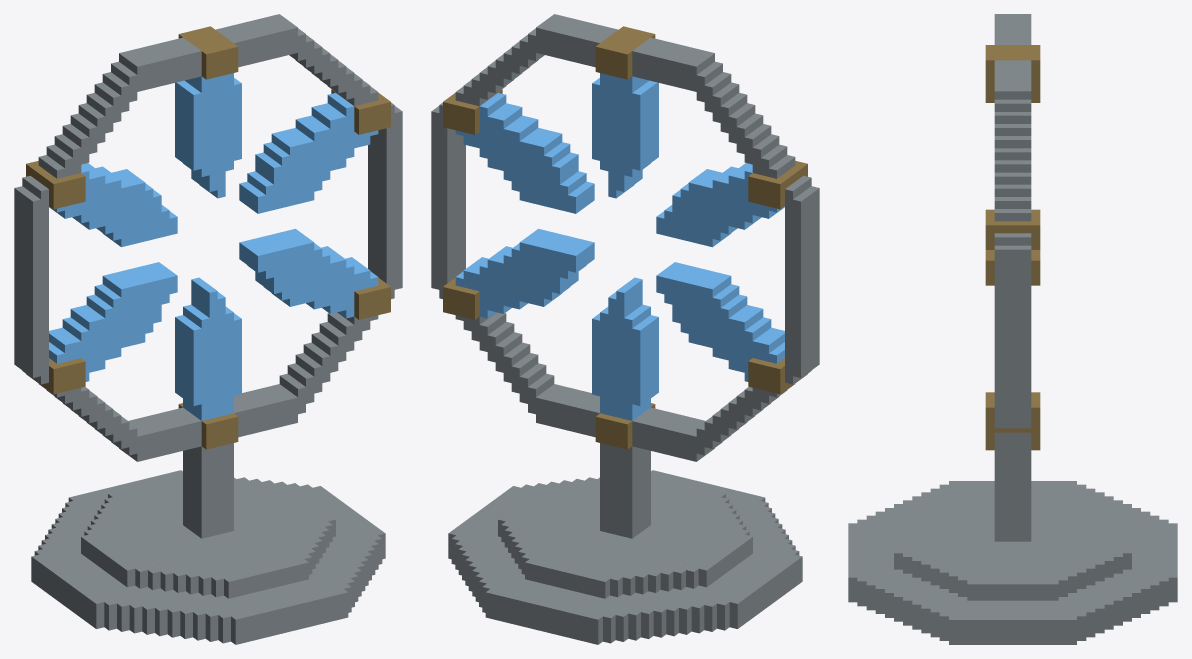
Rendered from matrix_aligning_tool.glb.
3 views of the same model, side by side, from view 1: azimuth 30°, elevation 25°; view 2: azimuth 150°, elevation 25°; view 3: azimuth 270°, elevation 25° (orthographic).
Parts seen in each view (by area): view 1: matrix_aligning_tool:compound; view 2: matrix_aligning_tool:compound; view 3: matrix_aligning_tool:compound.
Part boxes in pixels (<box>): matrix_aligning_tool:compound: <box>14,14,402,644</box>; matrix_aligning_tool:compound: <box>431,14,819,644</box>; matrix_aligning_tool:compound: <box>848,14,1177,644</box>.
Bounding box in the file's own units: 0.184 × 0.252 × 0.144.
